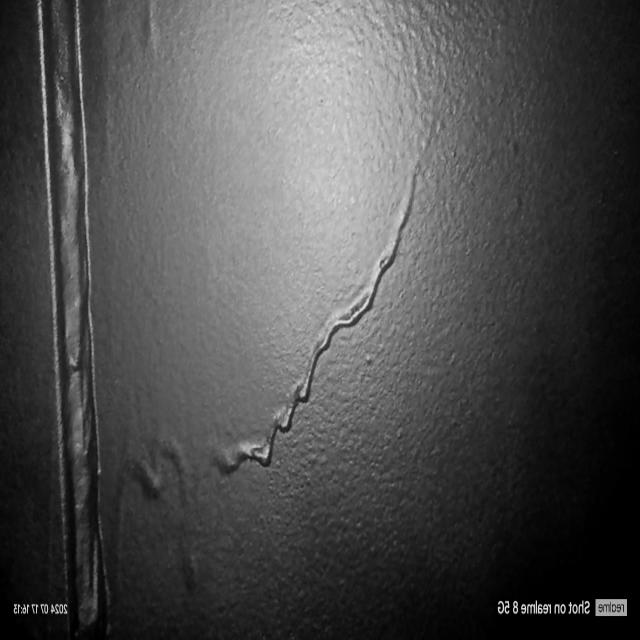paint drips: (204, 153, 418, 486), (107, 423, 205, 639)
